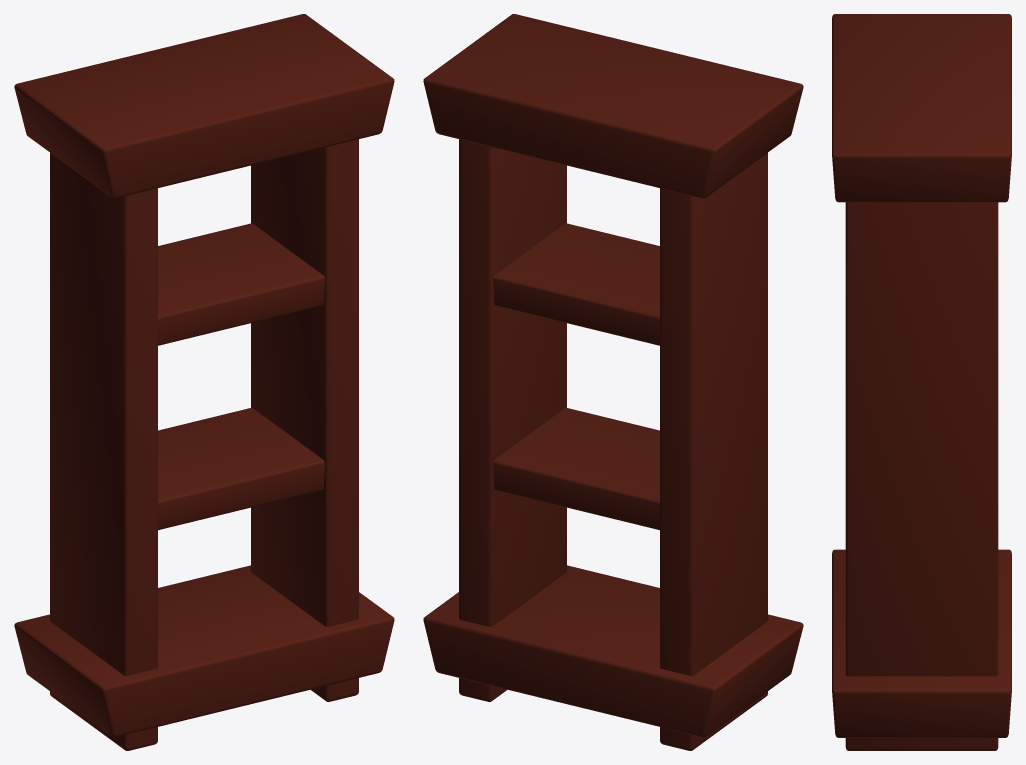
File: bookcase.obj
The picture shows the model from 3 angles, left to right: view 1: azimuth 30°, elevation 25°; view 2: azimuth 150°, elevation 25°; view 3: azimuth 270°, elevation 25°; orthographic projection.
Visible parts, largest first — view 1: bookcase_Cube.4086; view 2: bookcase_Cube.4086; view 3: bookcase_Cube.4086.
Part boxes in pixels (x1,y1,x2,y2): bookcase_Cube.4086: (14, 14, 394, 750); bookcase_Cube.4086: (423, 14, 803, 750); bookcase_Cube.4086: (832, 14, 1011, 750).
Bounding box in the file's own units: 0.9949 × 2 × 0.5333.
